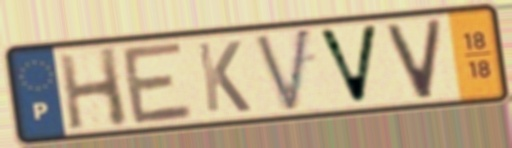E: (118, 38, 198, 128)
H: (54, 44, 132, 133)
K: (194, 38, 254, 116)
V: (250, 24, 315, 116), (313, 22, 382, 107), (382, 16, 446, 103)
